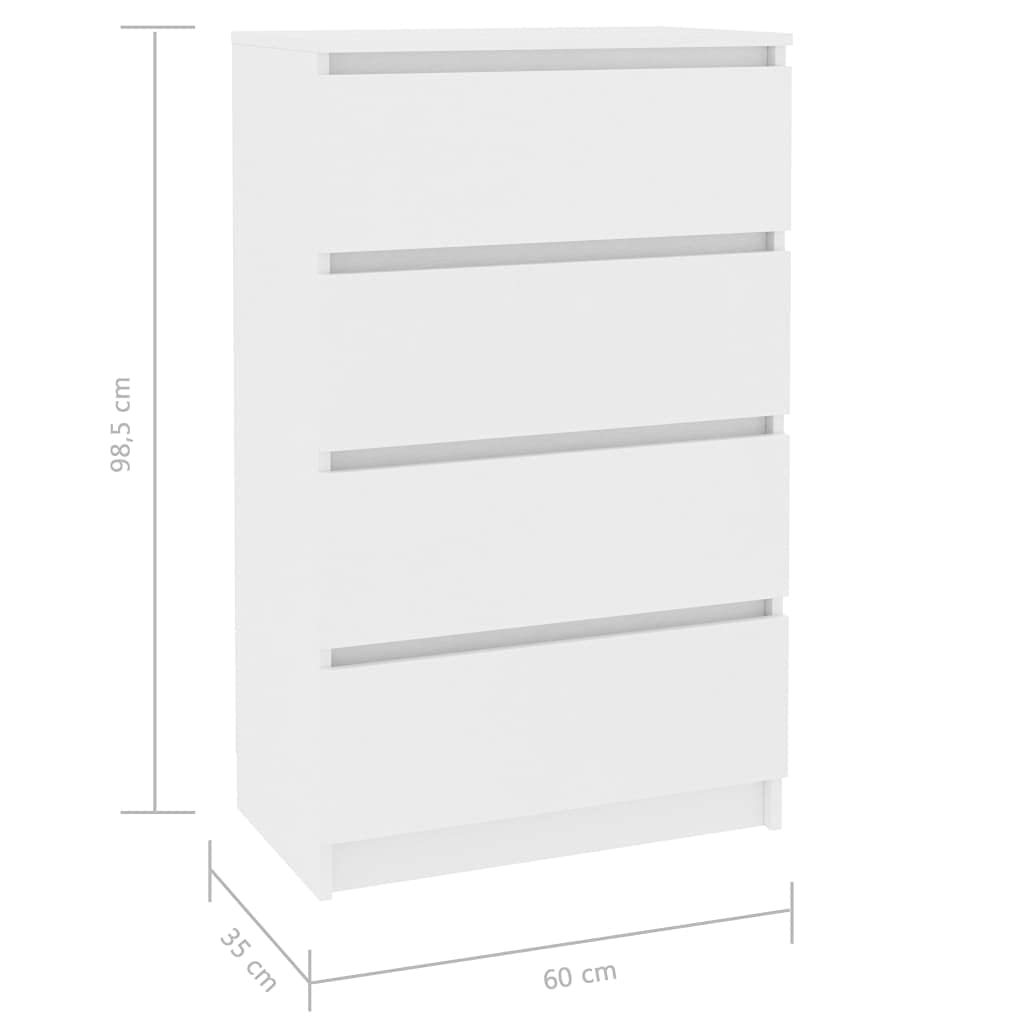|: (120, 25, 196, 30), (120, 810, 196, 814)
